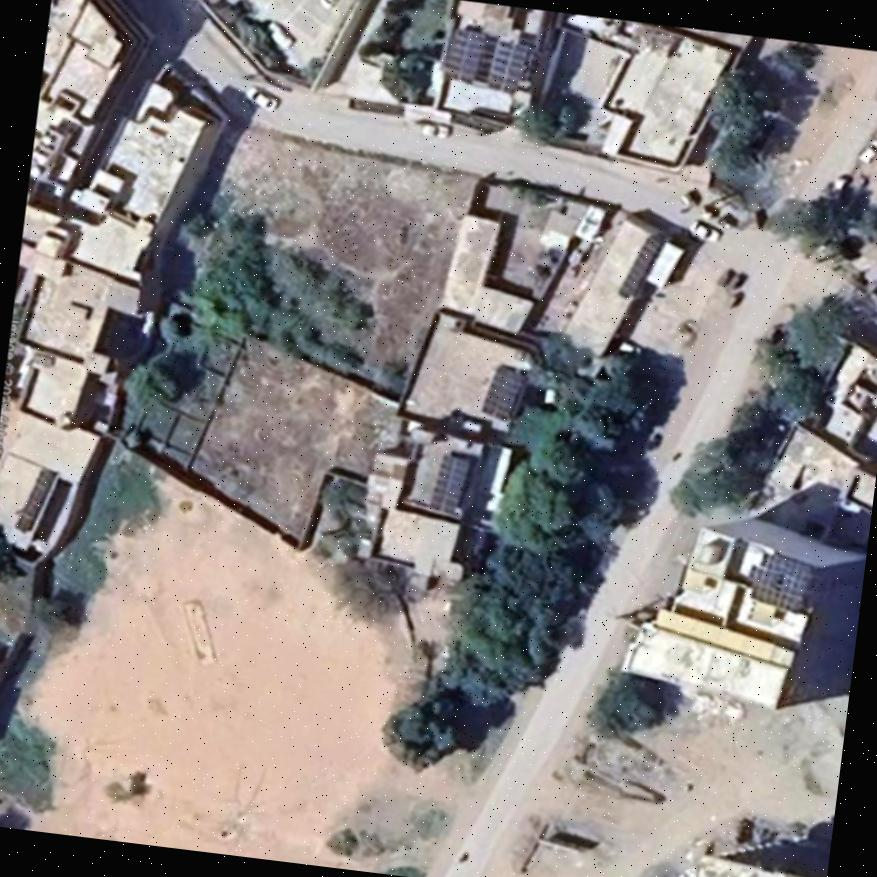Solarpanel: (752, 549, 812, 611), (15, 470, 55, 531), (620, 237, 658, 299), (430, 451, 467, 514), (487, 41, 528, 94), (441, 28, 483, 79), (483, 365, 521, 418)
